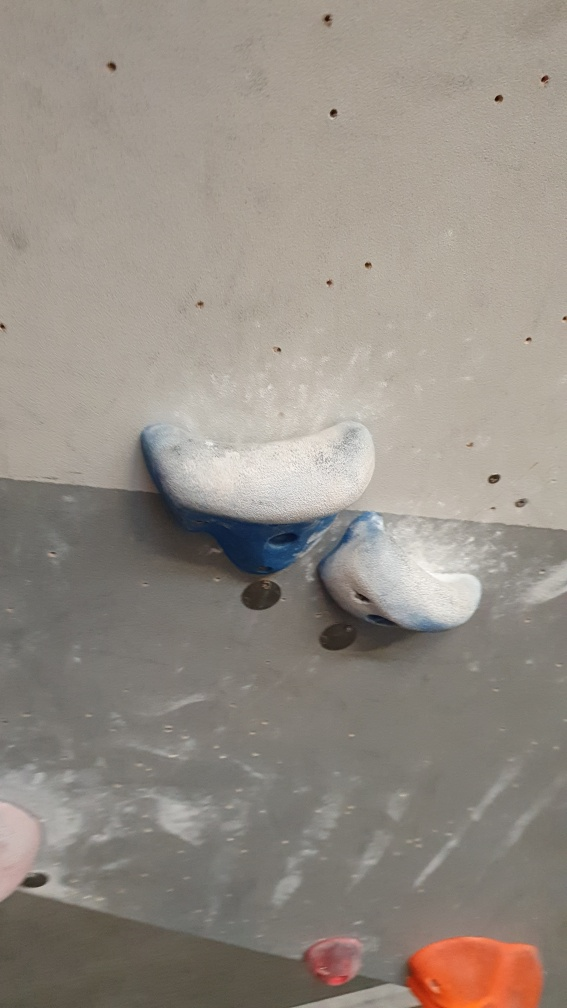Hand Start: (235, 576, 291, 619), (316, 614, 367, 655)
Jug: (136, 411, 381, 575), (318, 514, 485, 649)
